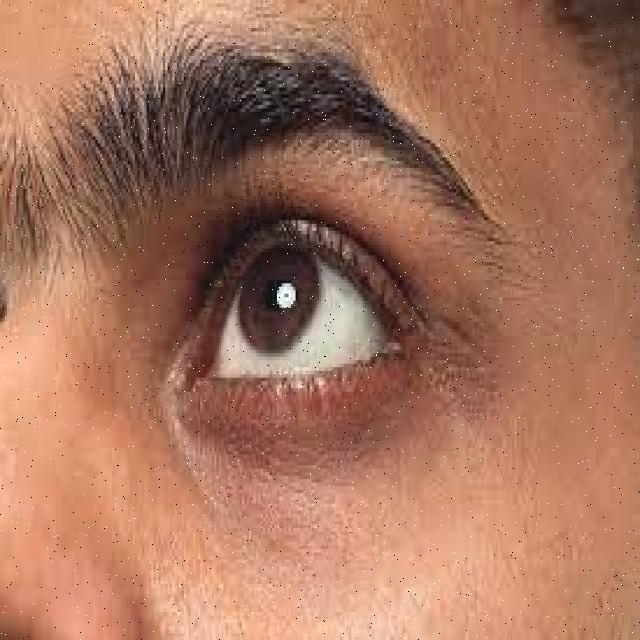Normal: (80, 169, 498, 487)
